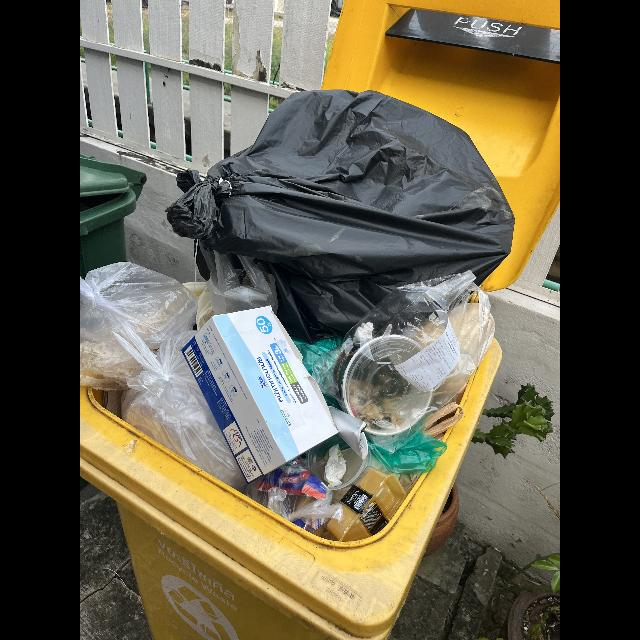cardboard_box: (182, 304, 336, 484)
plastic_bag: (164, 86, 510, 340), (120, 328, 340, 490), (338, 272, 496, 442), (80, 262, 196, 392), (246, 454, 344, 534), (366, 425, 446, 477)
plastic_box: (328, 468, 408, 542)
scrap_paper: (394, 310, 460, 392), (321, 445, 347, 487), (352, 320, 374, 346)
